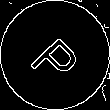P_NE: (24, 24, 86, 86)
